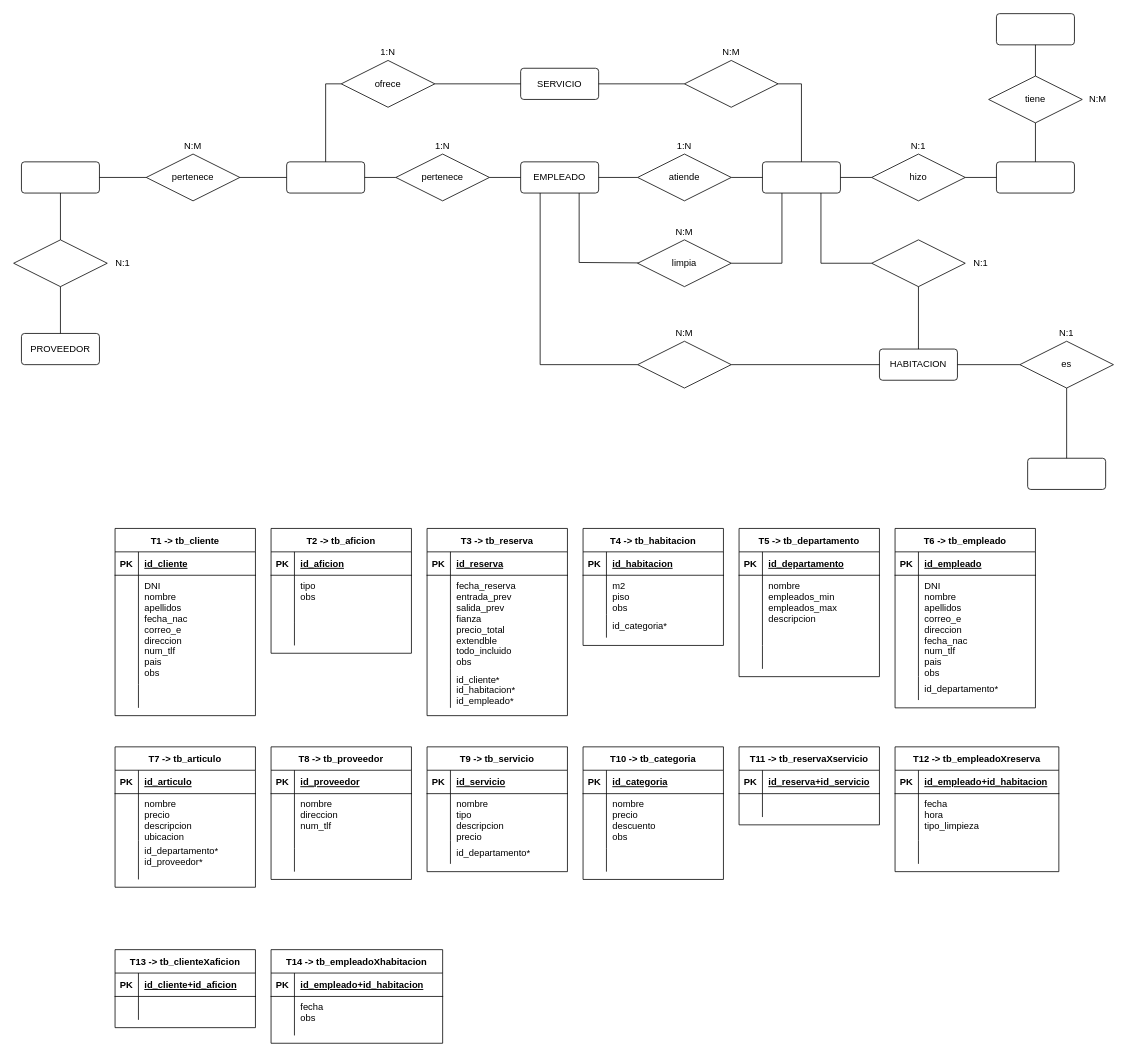
This 1127x1057 diagram has some shape labels left out. The centre of each missing label's shape, as x and y in pixels:
AFICION: (x=1035, y=29)
arregla: (x=684, y=364)
ARTICULO: (x=60, y=177)
asocia: (x=918, y=263)
CATEGORIA: (x=1066, y=473)
CLIENTE: (x=1035, y=177)
contrata: (x=731, y=83)
DEPARTAMENTO: (x=325, y=177)
RESERVA: (x=801, y=177)
suministra: (x=60, y=263)
